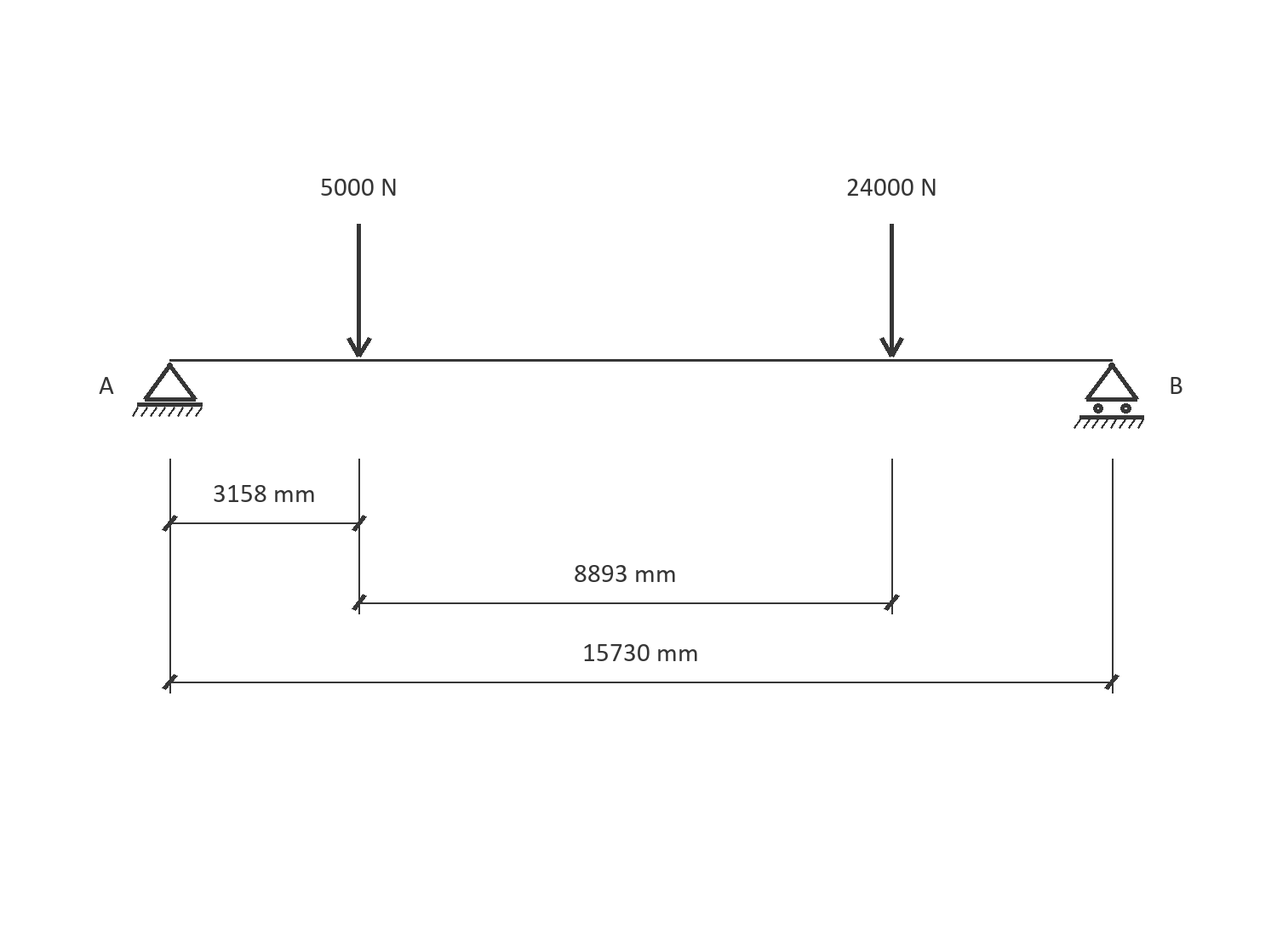pin_support: (132, 362, 203, 417)
point_load: (346, 224, 372, 357), (879, 224, 904, 357)
roller_support: (1074, 362, 1144, 429)
